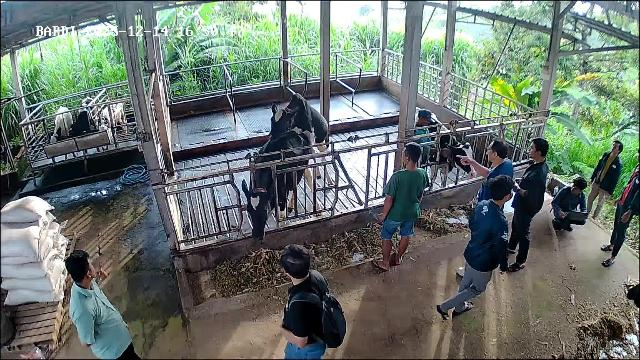mounting: (265, 93, 335, 188)
